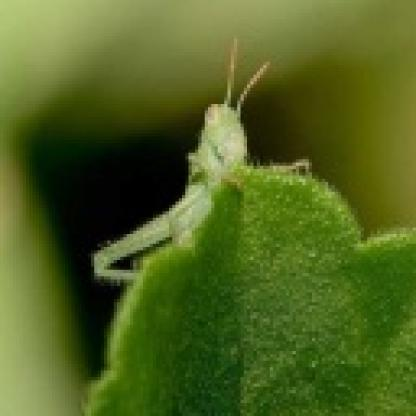grasshopper: (90, 32, 315, 294)
